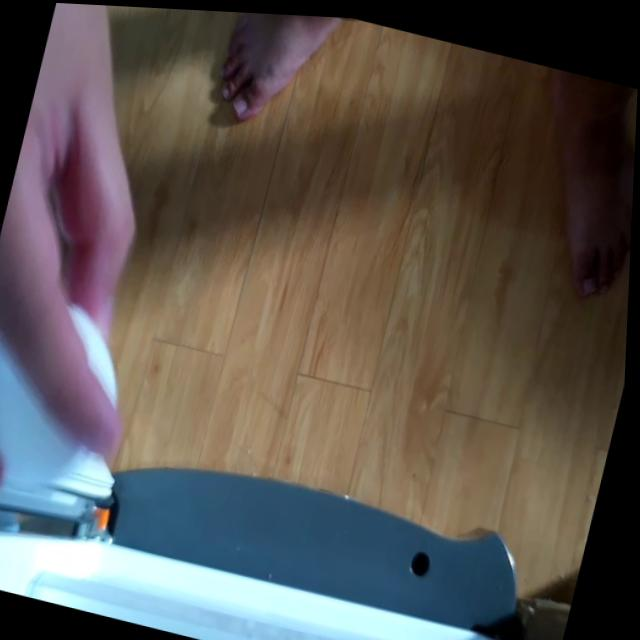egg: (0, 278, 132, 494)
